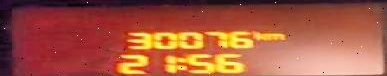0: (176, 30, 204, 48), (151, 30, 177, 49)
1: (159, 54, 176, 73)
2: (116, 54, 149, 74)
3: (124, 31, 152, 48)
5: (187, 53, 215, 73)
6: (215, 52, 246, 73), (227, 29, 253, 48)
7: (204, 30, 227, 47)
X: (267, 32, 288, 39), (176, 55, 185, 70), (253, 30, 268, 39)
